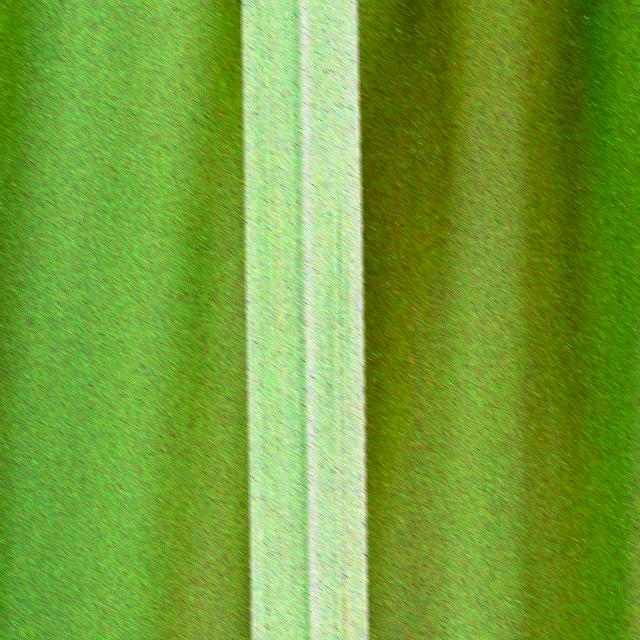BLS: (274, 0, 286, 579), (340, 327, 347, 640), (347, 434, 354, 640), (361, 503, 366, 640)
